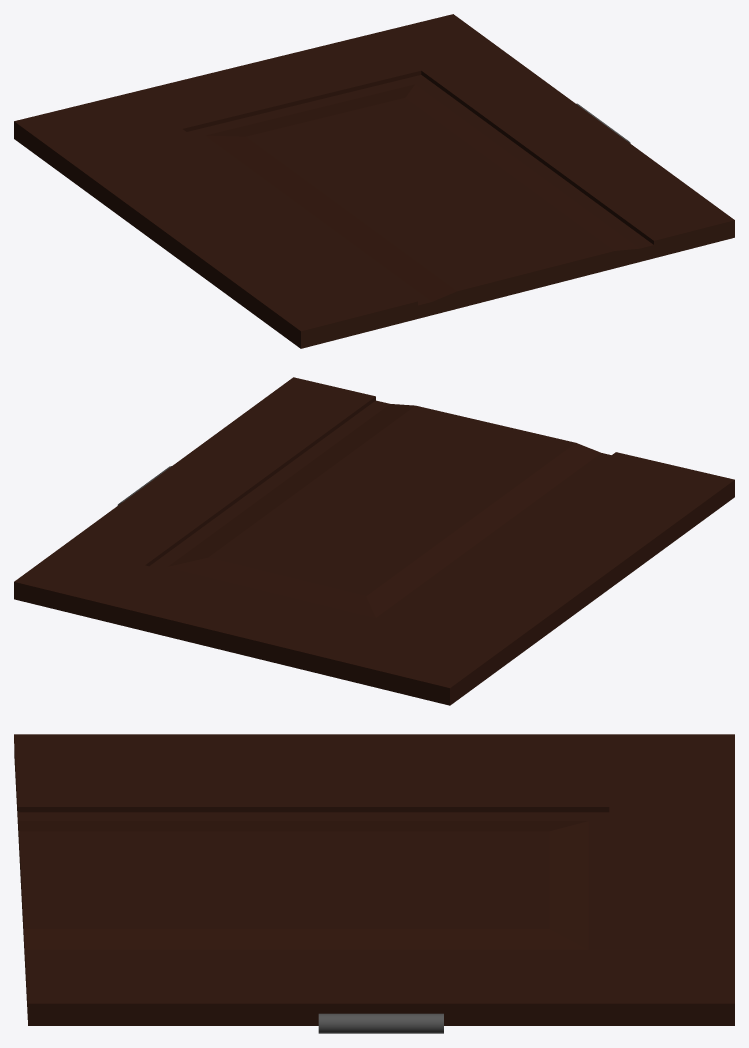
Rendered from Placard_Part_9.fbx.
3 renders of one model, top to bottom at view 1: azimuth 30°, elevation 25°; view 2: azimuth 150°, elevation 25°; view 3: azimuth 270°, elevation 25°, orthographic. The views are drawn at different scales.
Parts seen in each view (by area): view 1: Placard_Part_9; view 2: Placard_Part_9; view 3: Placard_Part_9.
Part boxes in pixels (left/top/right/bottom): Placard_Part_9: left=14, top=14, right=734, bottom=348; Placard_Part_9: left=14, top=377, right=734, bottom=705; Placard_Part_9: left=14, top=734, right=734, bottom=1033.
Bounding box in the file's own units: 73.05 × 3.17 × 80.44.
